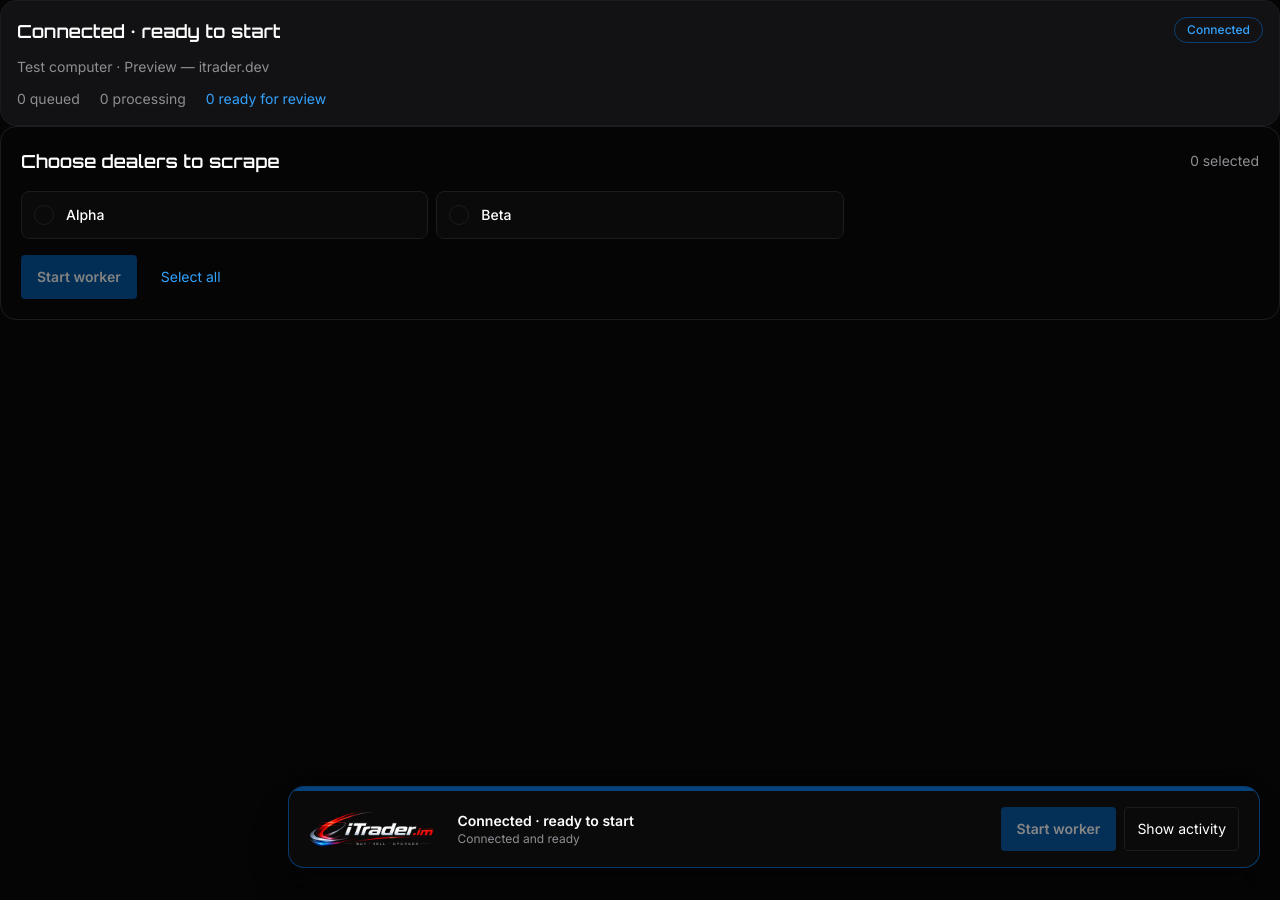
does not retry an uncertain queue request or start the worker
Step 1. Click the checkbox labelled "Alpha" → (225, 215), box [21,191,428,239]
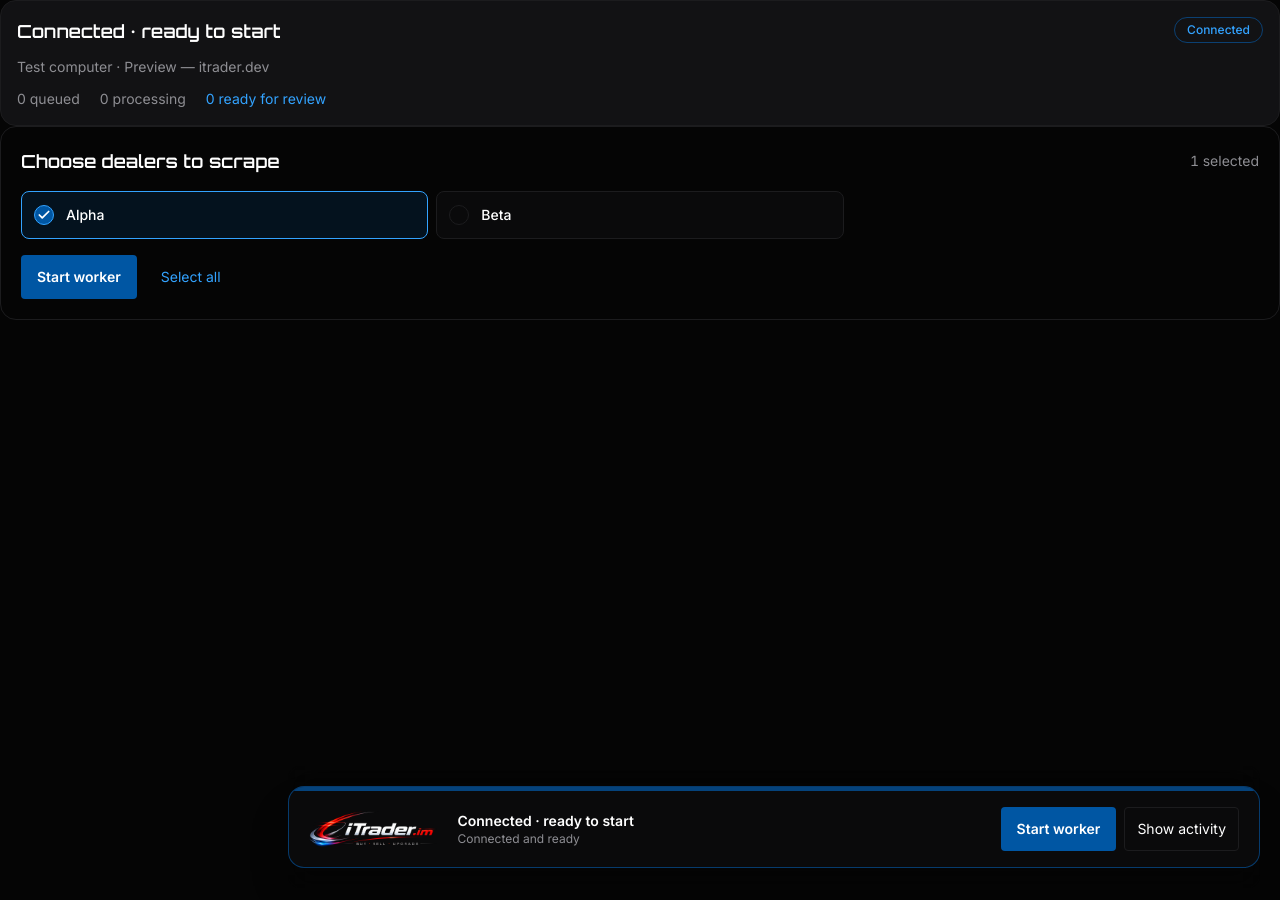
Step 2. Click the button "Start worker" below "Alpha" → (79, 277), box [21,255,137,299]
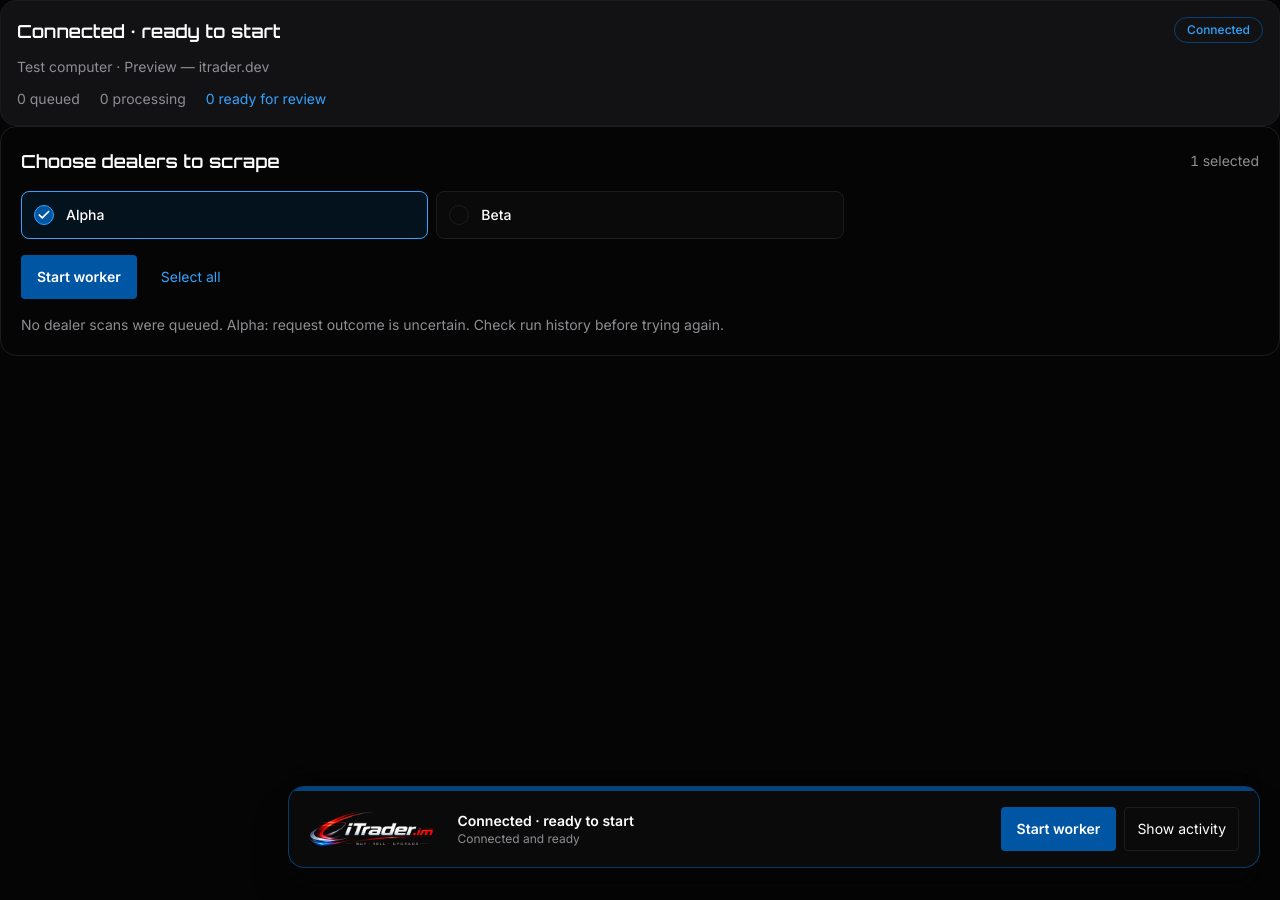
expect the checkbox labelled "Alpha" is checked: met, box [21,191,428,239]
expect the 1st message shows "outcome is uncertain": met, box [21,316,724,333]
